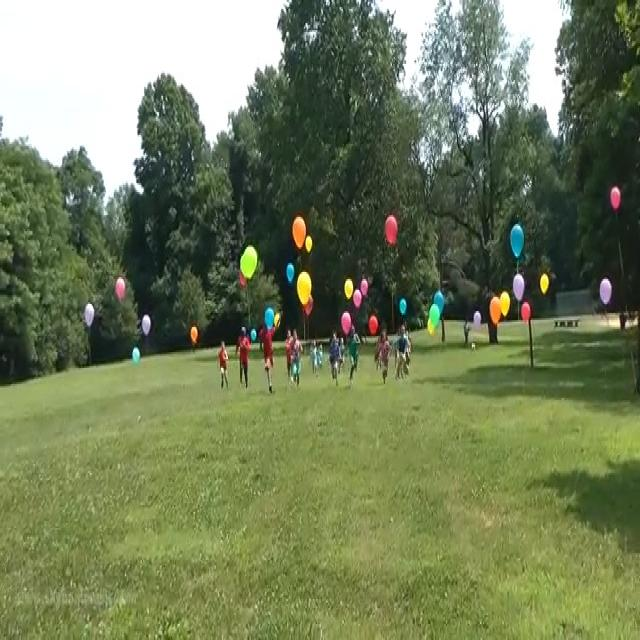balloon: (296, 270, 312, 306), (241, 244, 256, 278), (510, 225, 524, 258), (292, 218, 304, 247), (490, 297, 502, 324), (387, 215, 398, 243), (82, 303, 94, 327), (434, 293, 445, 314), (344, 279, 354, 301), (342, 313, 352, 335), (500, 294, 510, 316), (540, 274, 550, 295), (142, 313, 151, 335), (304, 298, 314, 316), (117, 277, 125, 299), (266, 309, 274, 331), (516, 276, 524, 297), (522, 302, 530, 322), (354, 290, 361, 310), (431, 306, 438, 326), (429, 318, 436, 337), (133, 346, 140, 364), (192, 326, 198, 347), (400, 300, 408, 314), (287, 264, 293, 282), (362, 278, 369, 293), (241, 272, 248, 286), (474, 312, 481, 325), (370, 316, 375, 334), (275, 314, 281, 327), (250, 328, 256, 339), (306, 237, 312, 248)
